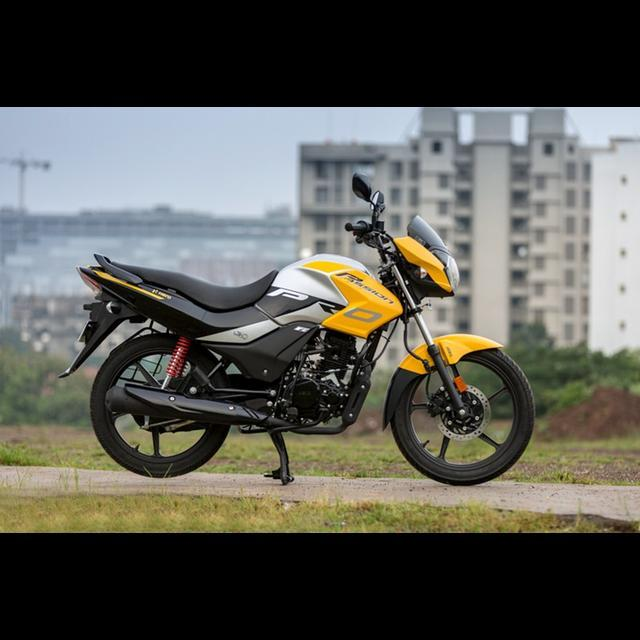motorcycle: (51, 169, 542, 492)
